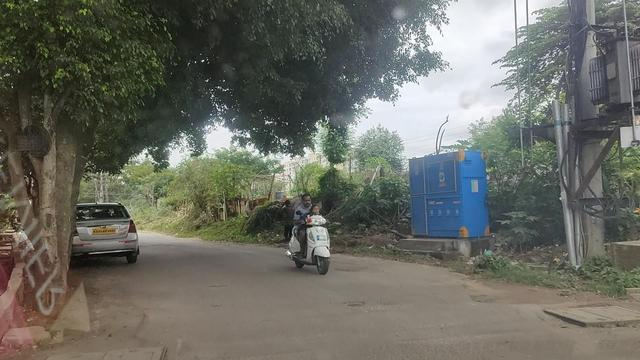LMV: (292, 194, 335, 274)
